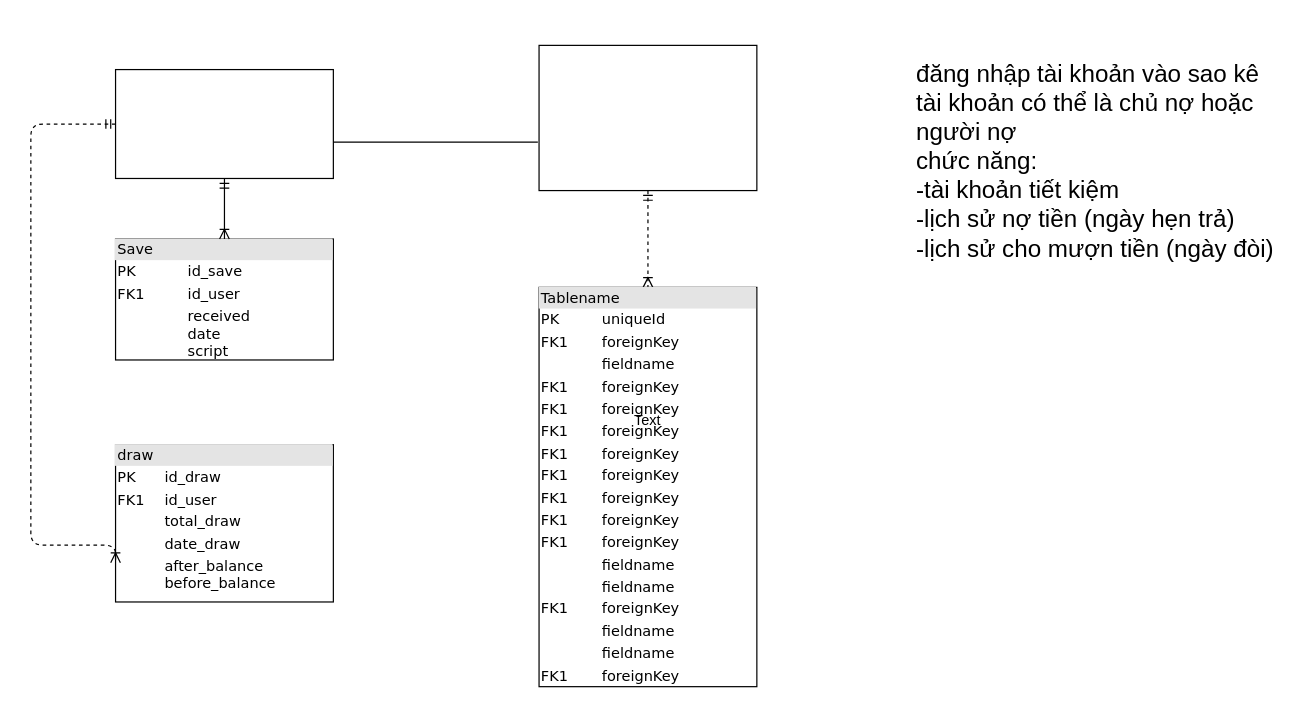
This 1310x708 diagram has some shape labels left out. The centre of each missing label's shape, as x and y in pixels:
"Owe PK id_owe FK1 id_user money_owed date_get date_back script" belongs at point (647, 117).
"Users PK id username password" belongs at point (223, 123).
